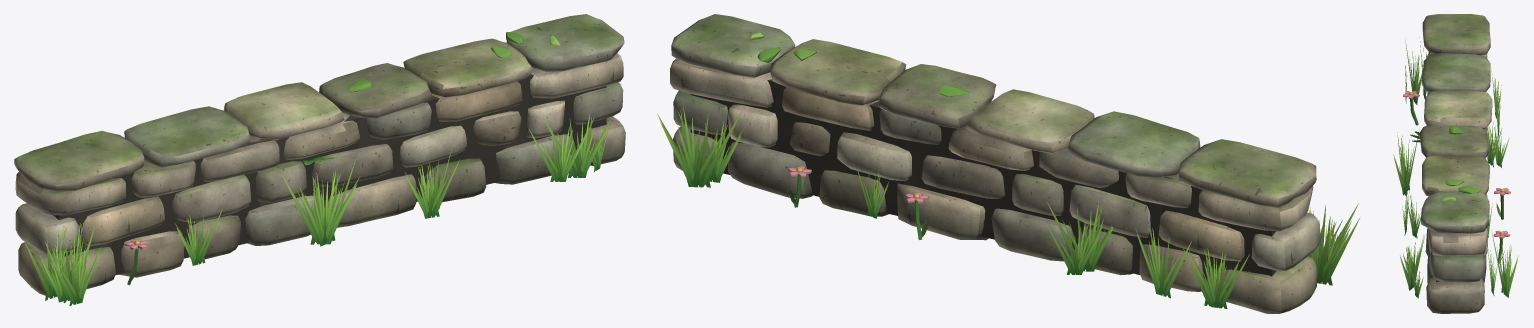
The model's file is stone_wall_straight.gltf.
3 views of the same model, side by side, from view 1: azimuth 30°, elevation 25°; view 2: azimuth 150°, elevation 25°; view 3: azimuth 270°, elevation 25° (orthographic). The views are drawn at different scales.
Visible parts, largest first — view 1: Wall, Core, Greenery; view 2: Wall, Core, Greenery; view 3: Wall, Greenery, Core.
Boxes of the visible parts, bbox=[...] form: Wall: bbox=[14, 14, 625, 295]; Core: bbox=[53, 32, 606, 285]; Greenery: bbox=[24, 115, 610, 305]; Wall: bbox=[670, 14, 1320, 313]; Core: bbox=[690, 32, 1276, 289]; Greenery: bbox=[657, 107, 1360, 308]; Wall: bbox=[1419, 14, 1492, 313]; Greenery: bbox=[1393, 37, 1518, 298]; Core: bbox=[1403, 91, 1510, 281].
Bounding box in the file's own units: 4.21 × 0.8512 × 0.9989.
10 materials, 2 textured.
